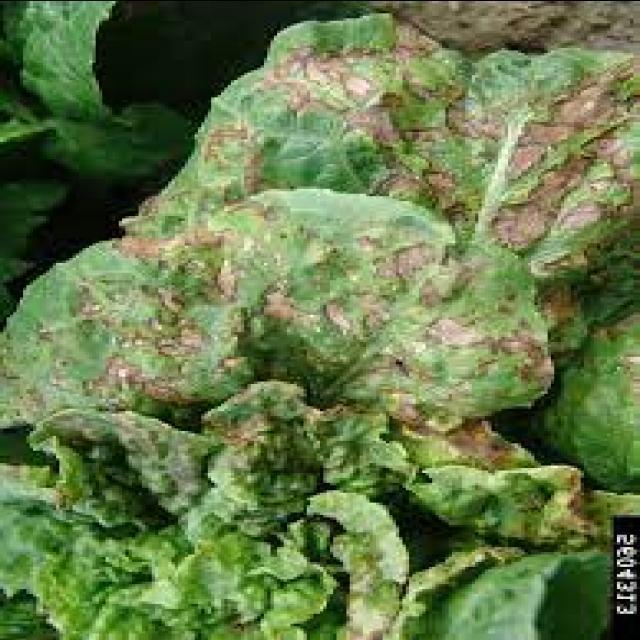Viral: (197, 123, 603, 573)
